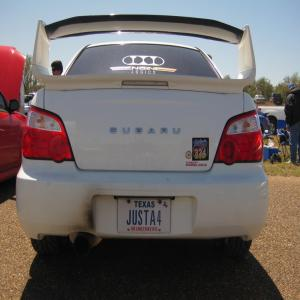Vehicle-registration-plate: (119, 199, 175, 239)
